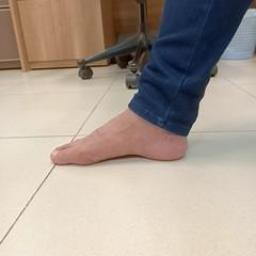Medial View -Right Foot-: (28, 76, 211, 186)
